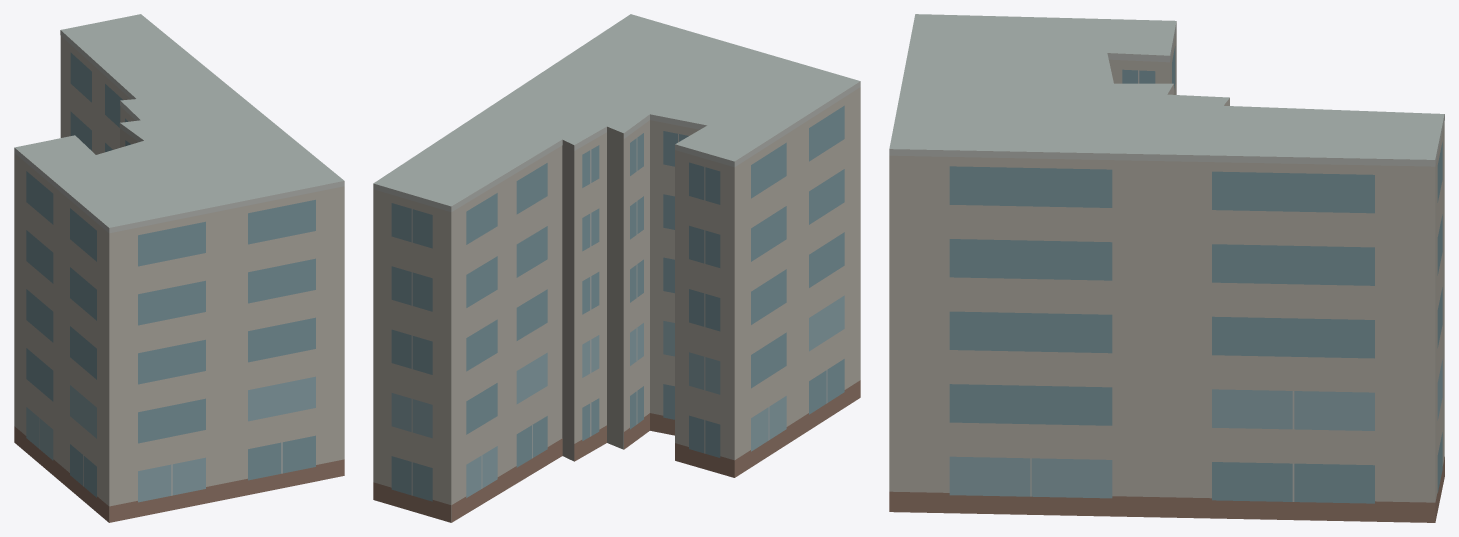
File: survey-upis-32984545.glb
The picture shows the model from 3 angles, left to right: view 1: azimuth 30°, elevation 25°; view 2: azimuth 150°, elevation 25°; view 3: azimuth 270°, elevation 25°; orthographic projection. The views are drawn at different scales.
Parts seen in each view (by area): view 1: survey-upis-32984545.tmp; view 2: survey-upis-32984545.tmp; view 3: survey-upis-32984545.tmp.
Boxes of the visible parts, x1,y1,x2,y2 form: survey-upis-32984545.tmp: [14, 14, 344, 522]; survey-upis-32984545.tmp: [373, 14, 860, 522]; survey-upis-32984545.tmp: [889, 14, 1444, 522].
Size of the model in its own units: 11.57 by 13.4 by 18.6.
